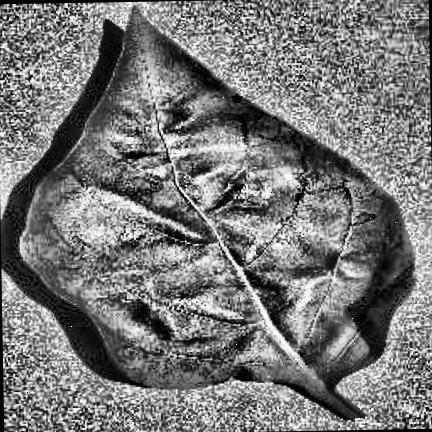leaf: (19, 8, 413, 418)
